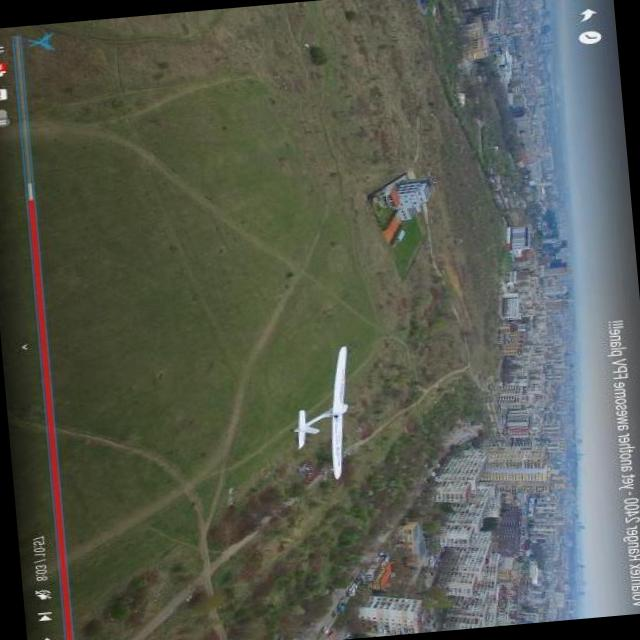UAV: (288, 372, 388, 472)
